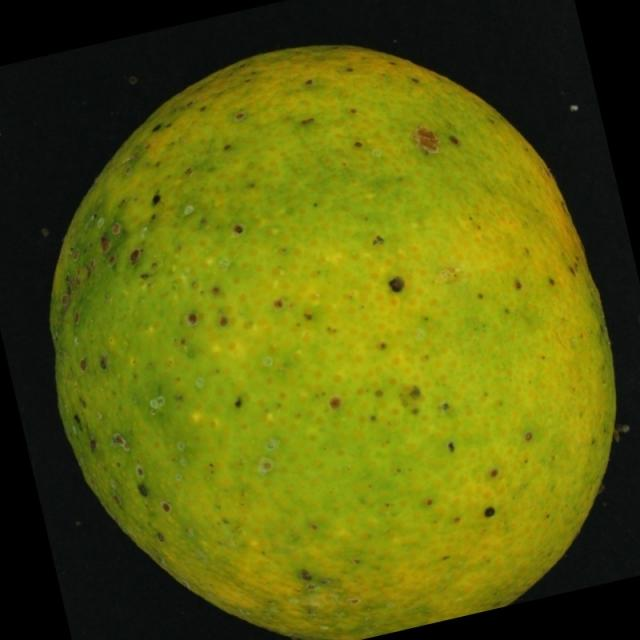grenning: (34, 34, 634, 640)
